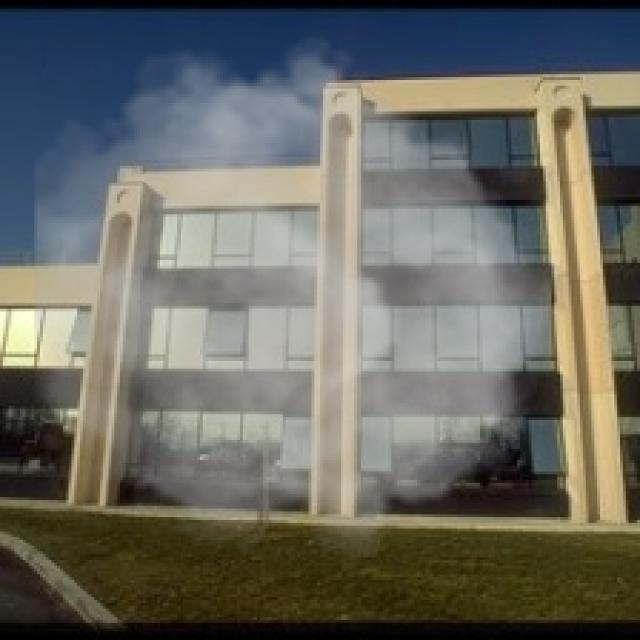Smoke: (34, 31, 552, 563)
